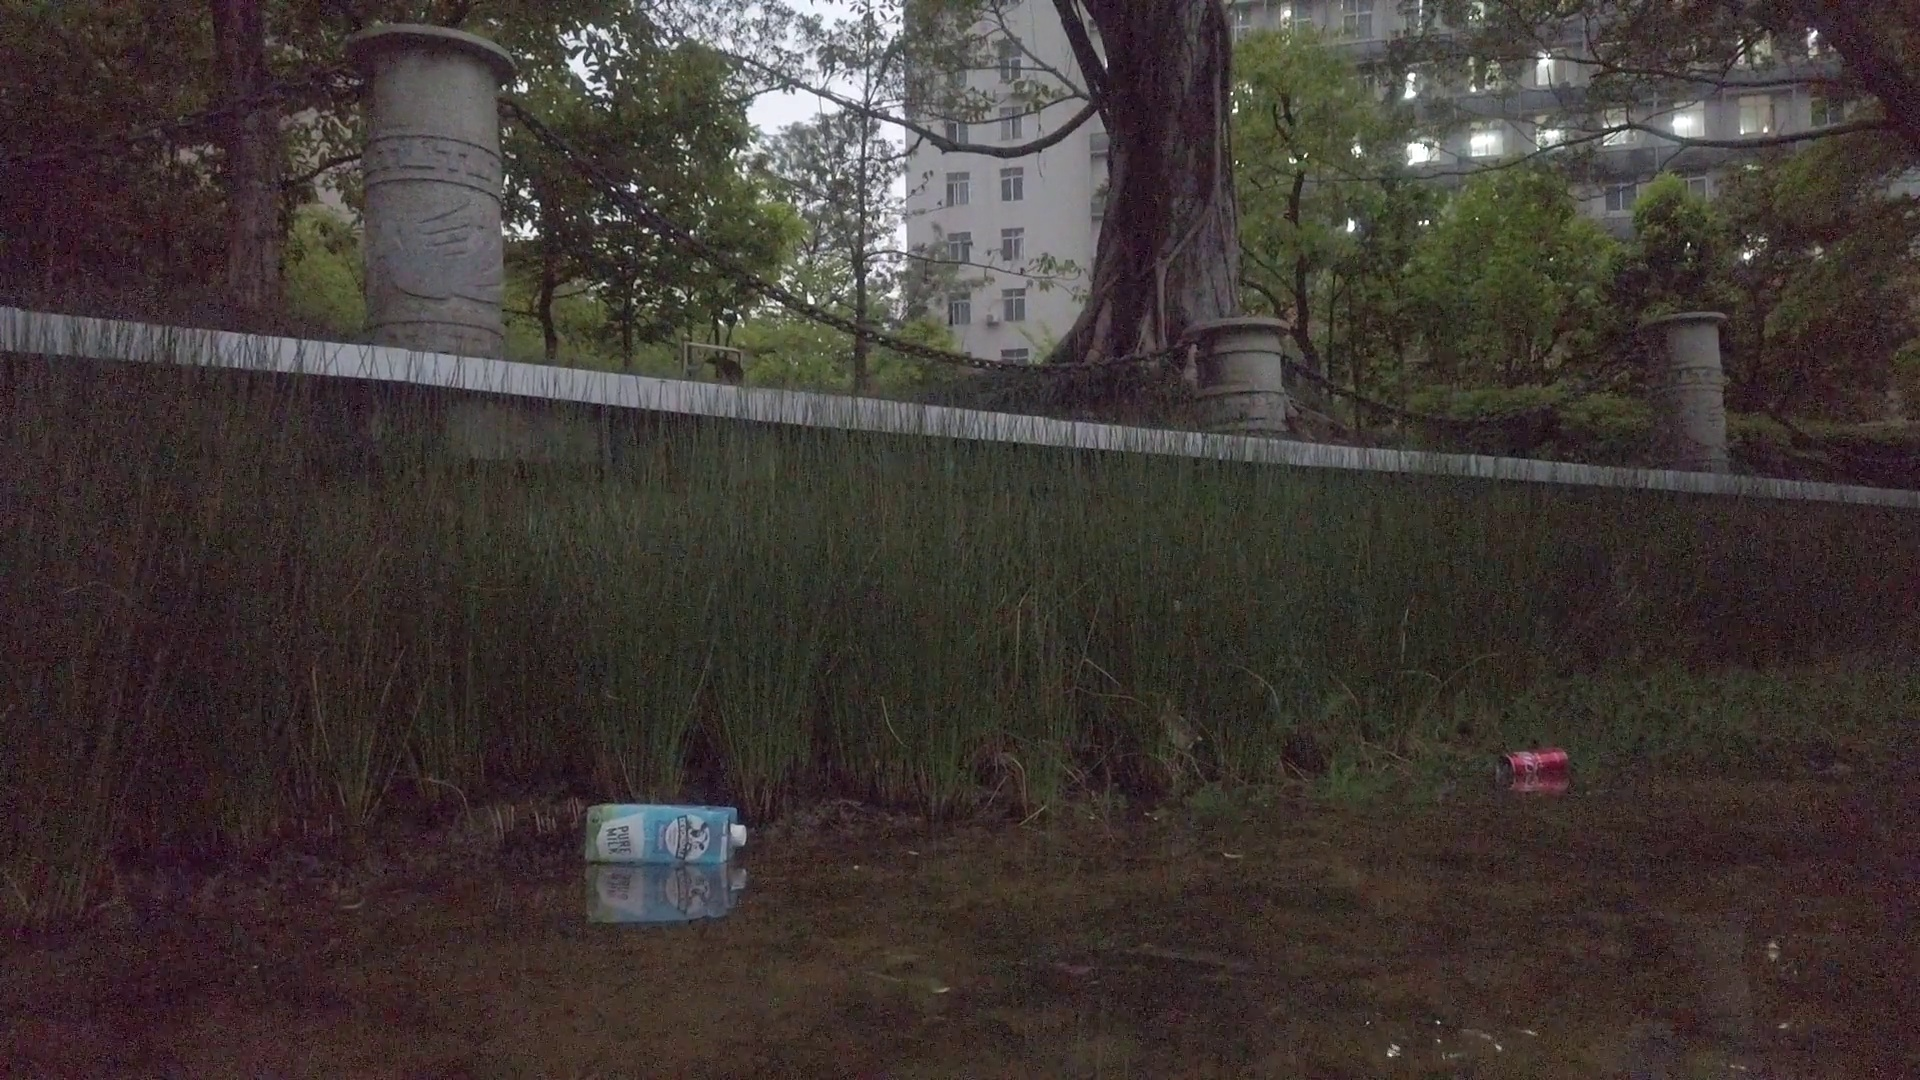bottle: (1497, 748, 1571, 785)
carton: (585, 803, 749, 862)
